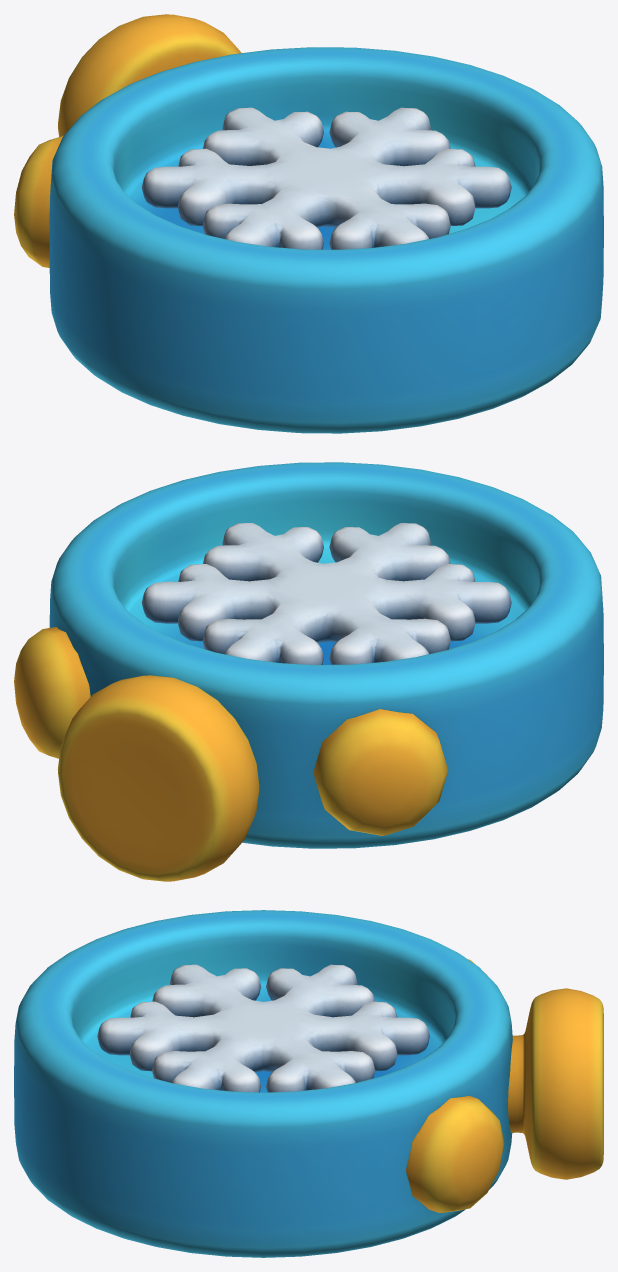
File: Alarm.fbx
3 renders of one model, top to bottom at view 1: azimuth 30°, elevation 25°; view 2: azimuth 150°, elevation 25°; view 3: azimuth 270°, elevation 25°, orthographic. The views are drawn at different scales.
Parts seen in each view (by area): view 1: Alarm; view 2: Alarm; view 3: Alarm.
Boxes of the visible parts, left/top/right/bottom form: Alarm: left=14, top=14, right=603, bottom=433; Alarm: left=14, top=462, right=603, bottom=881; Alarm: left=14, top=910, right=603, bottom=1257.
Bounding box in the file's own units: 1.12 × 0.4308 × 1.32.
Materials: 1 (1 with a texture image).
